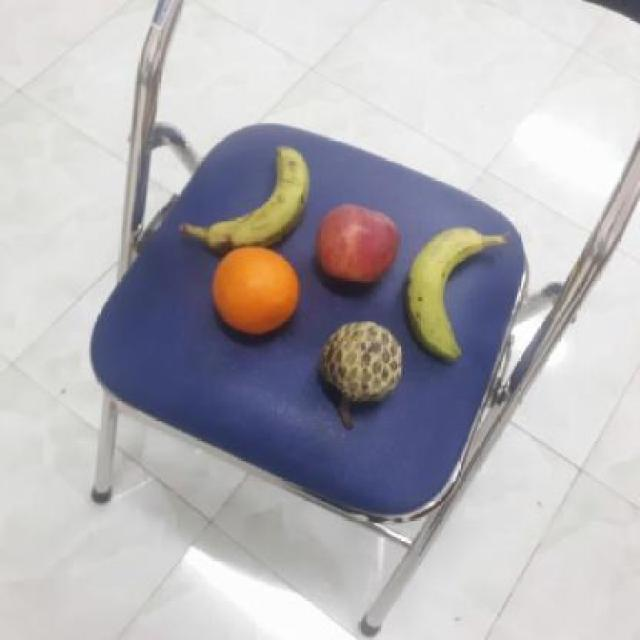apple: (315, 202, 400, 284)
banana: (198, 137, 316, 251), (400, 226, 497, 359)
oren: (207, 243, 298, 337)
sugar apple: (319, 320, 406, 405)
